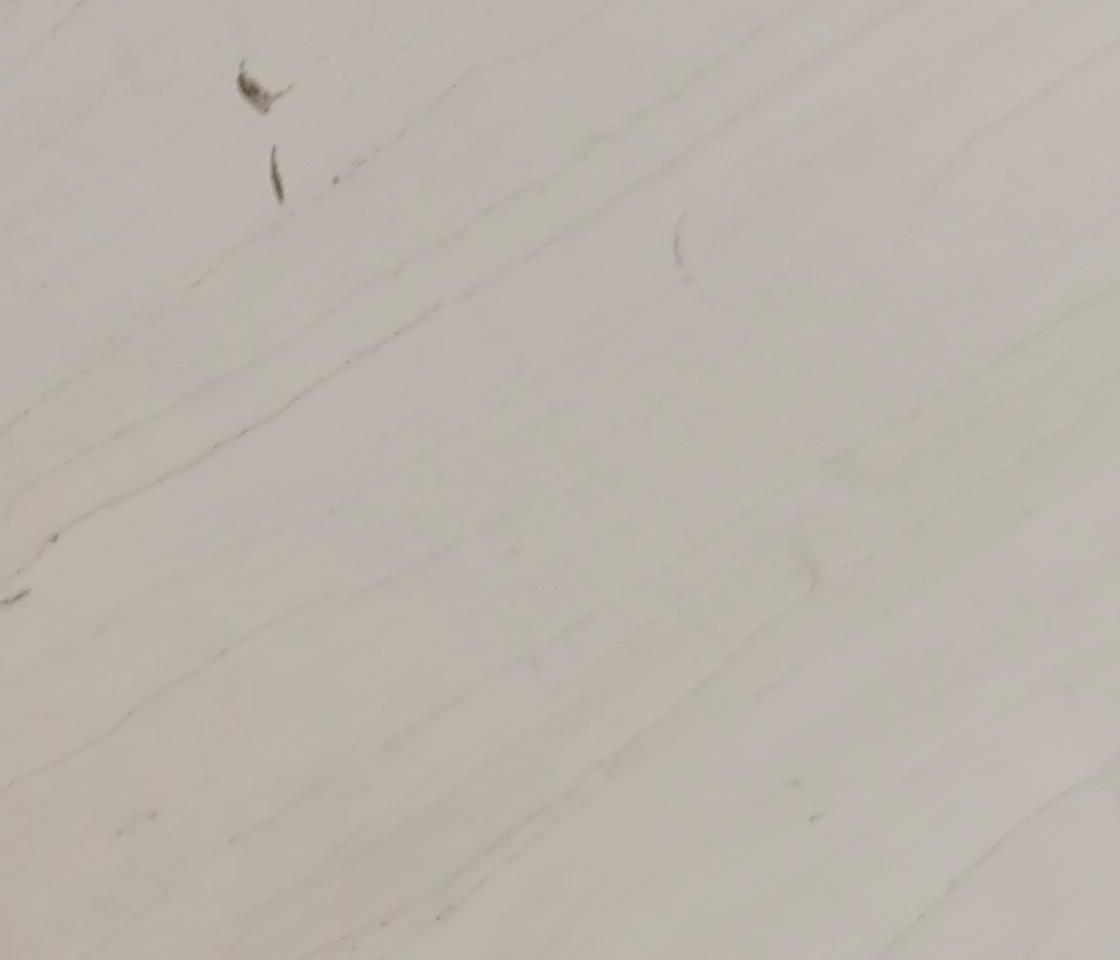scratch: (260, 144, 296, 216)
